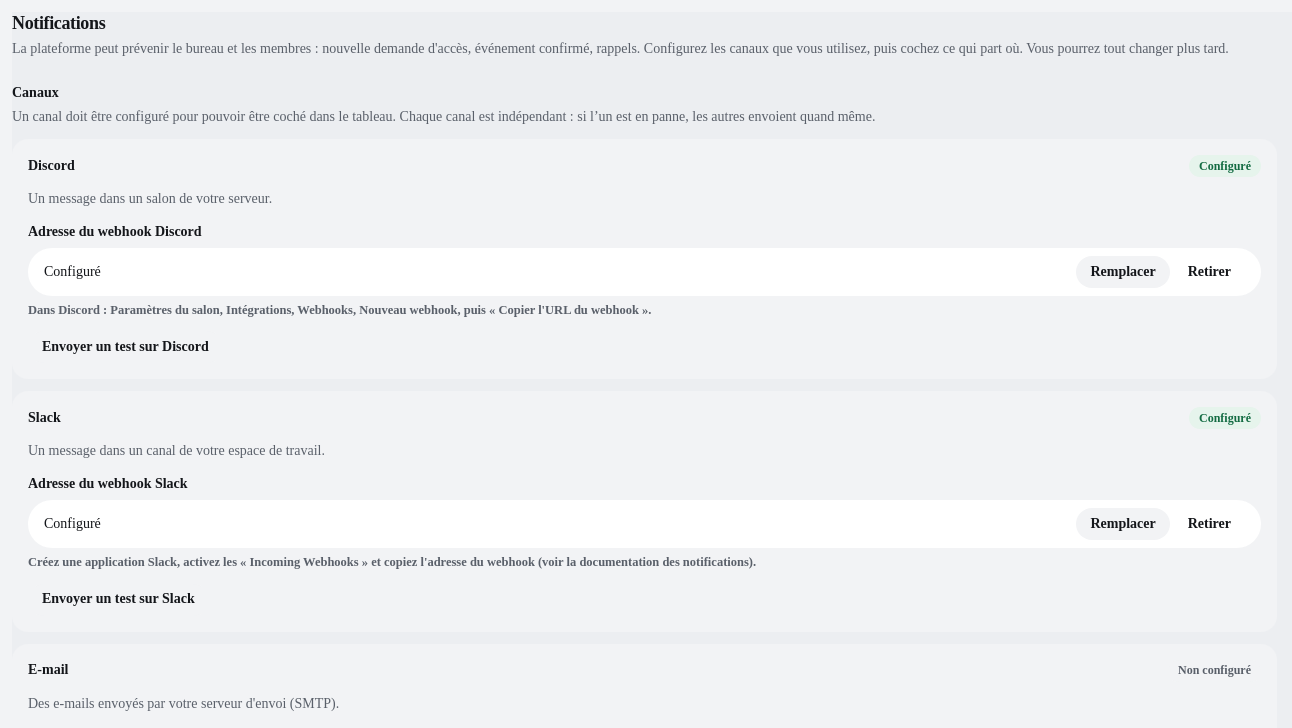
the test of a channel › goes through that channel only, and says how it went in its own panel
The width and height of the screenshot is (1292, 728).
Click the button "Envoyer un test sur Slack": {"x": 118, "y": 600} [28,584,209,616]
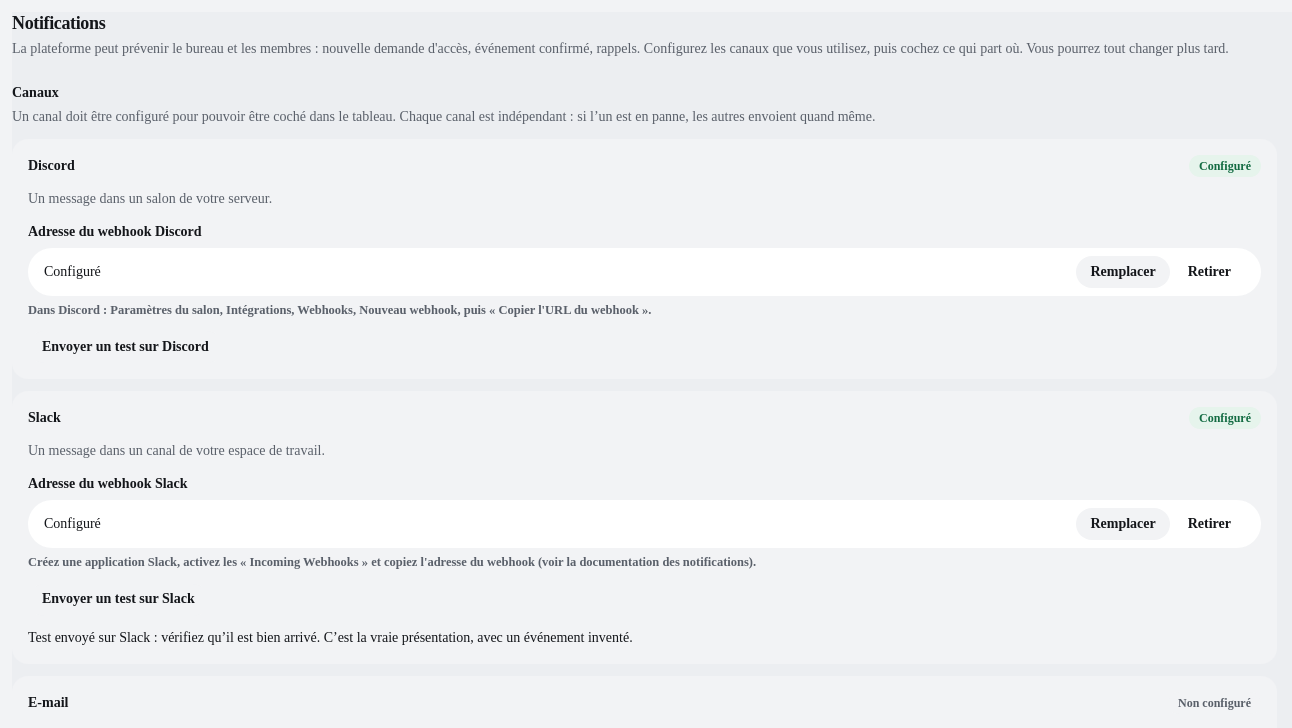
Result: the text "Test envoyé sur Slack" is shown at [28,630,633,645]
